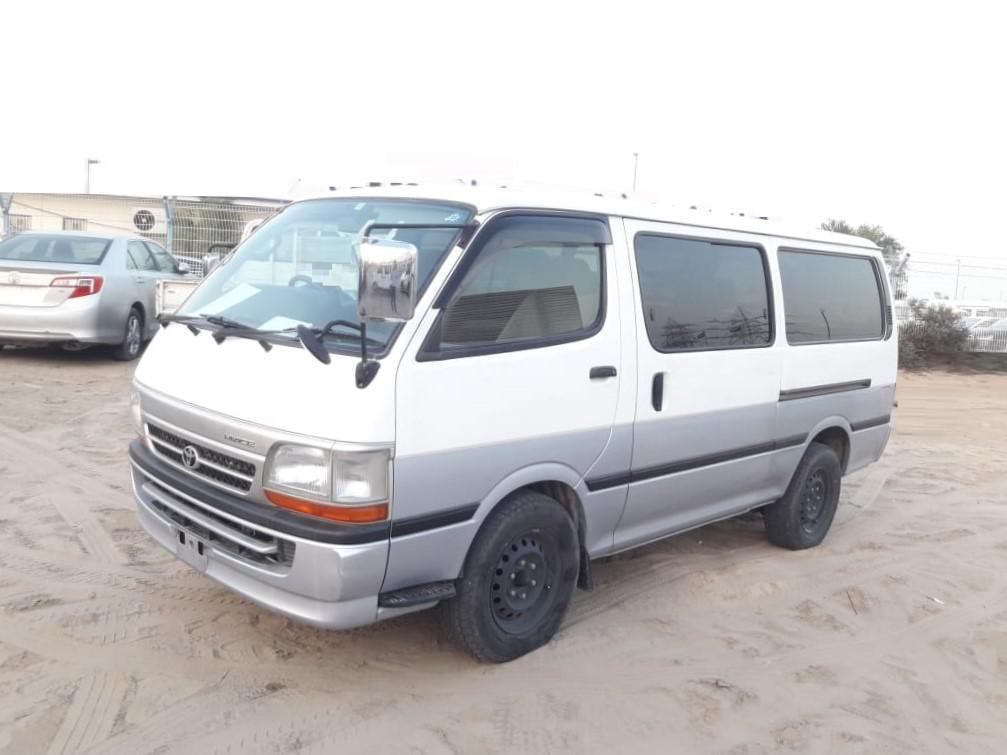van: (123, 184, 902, 640)
